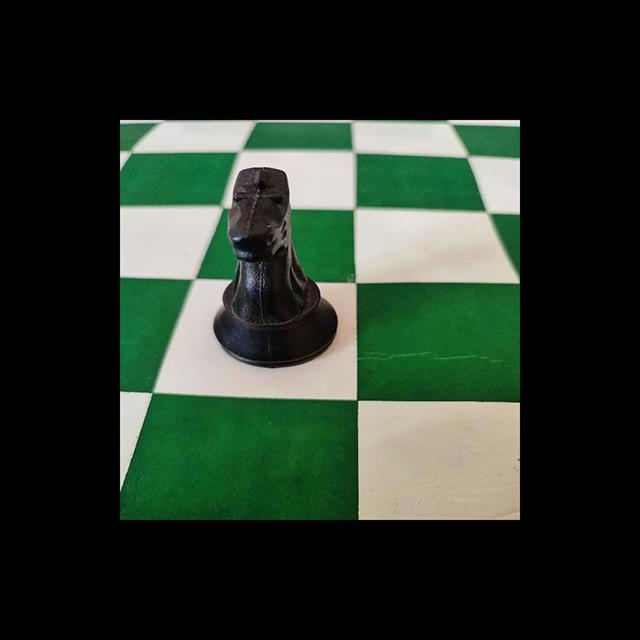black-knight: (214, 166, 339, 369)
